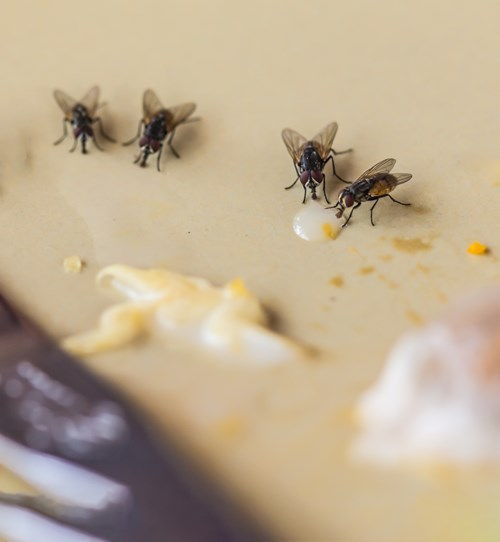fly: (122, 86, 206, 177), (332, 155, 419, 237), (275, 115, 355, 203), (48, 79, 121, 166)
